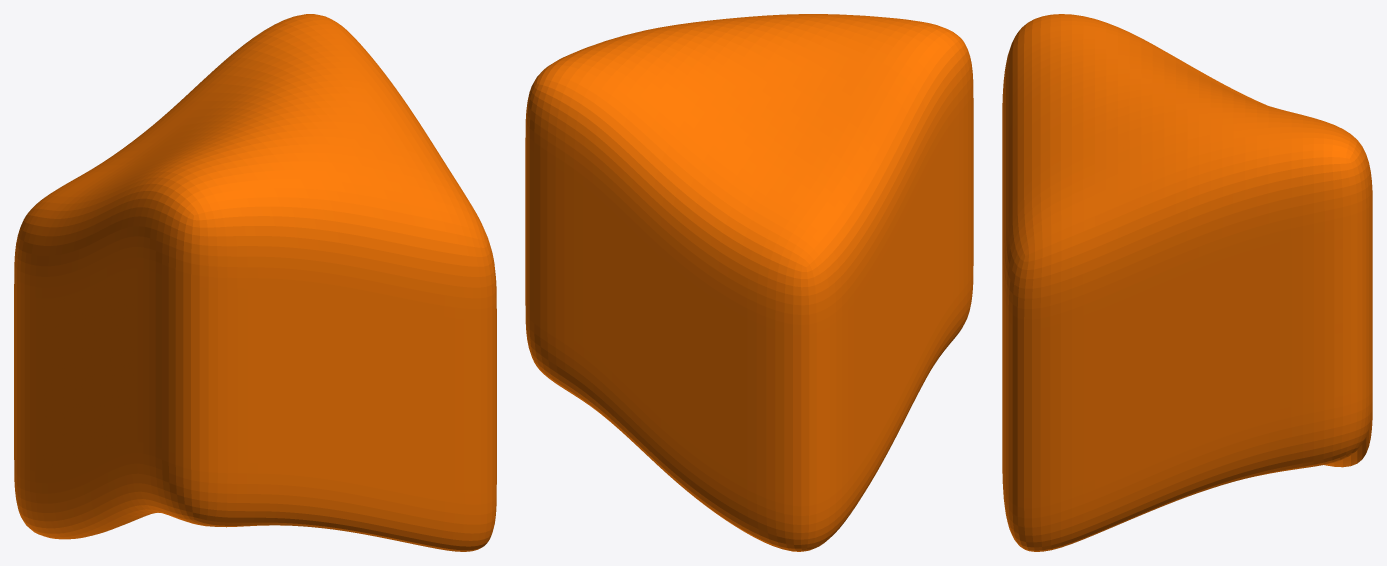
3 renders of one model, left to right at view 1: azimuth 30°, elevation 25°; view 2: azimuth 150°, elevation 25°; view 3: azimuth 270°, elevation 25°, orthographic. The views are drawn at different scales.
Parts seen in each view (by area): view 1: smooth_1_base.020; view 2: smooth_1_base.020; view 3: smooth_1_base.020.
Part boxes in pixels (bbox=[...]): smooth_1_base.020: bbox=[14, 14, 496, 551]; smooth_1_base.020: bbox=[525, 14, 973, 551]; smooth_1_base.020: bbox=[1002, 14, 1372, 551].
Bounding box in the file's own units: 60 × 78.82 × 60.
